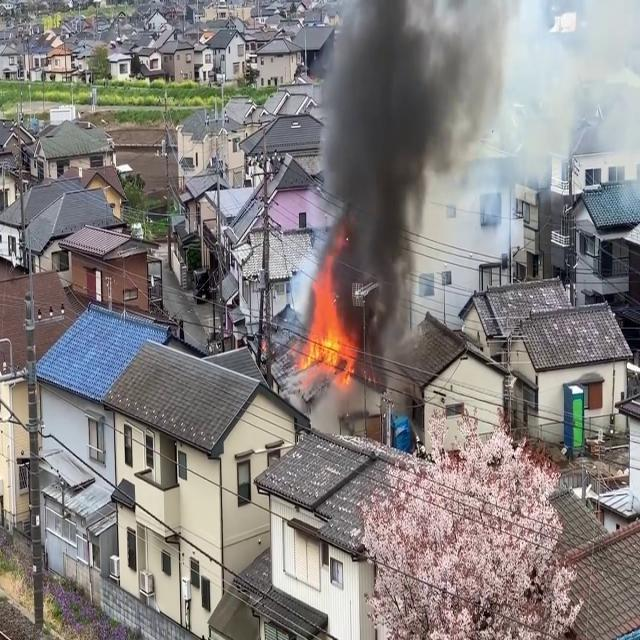Fire: (295, 267, 358, 385)
Smoke: (306, 0, 502, 340)
